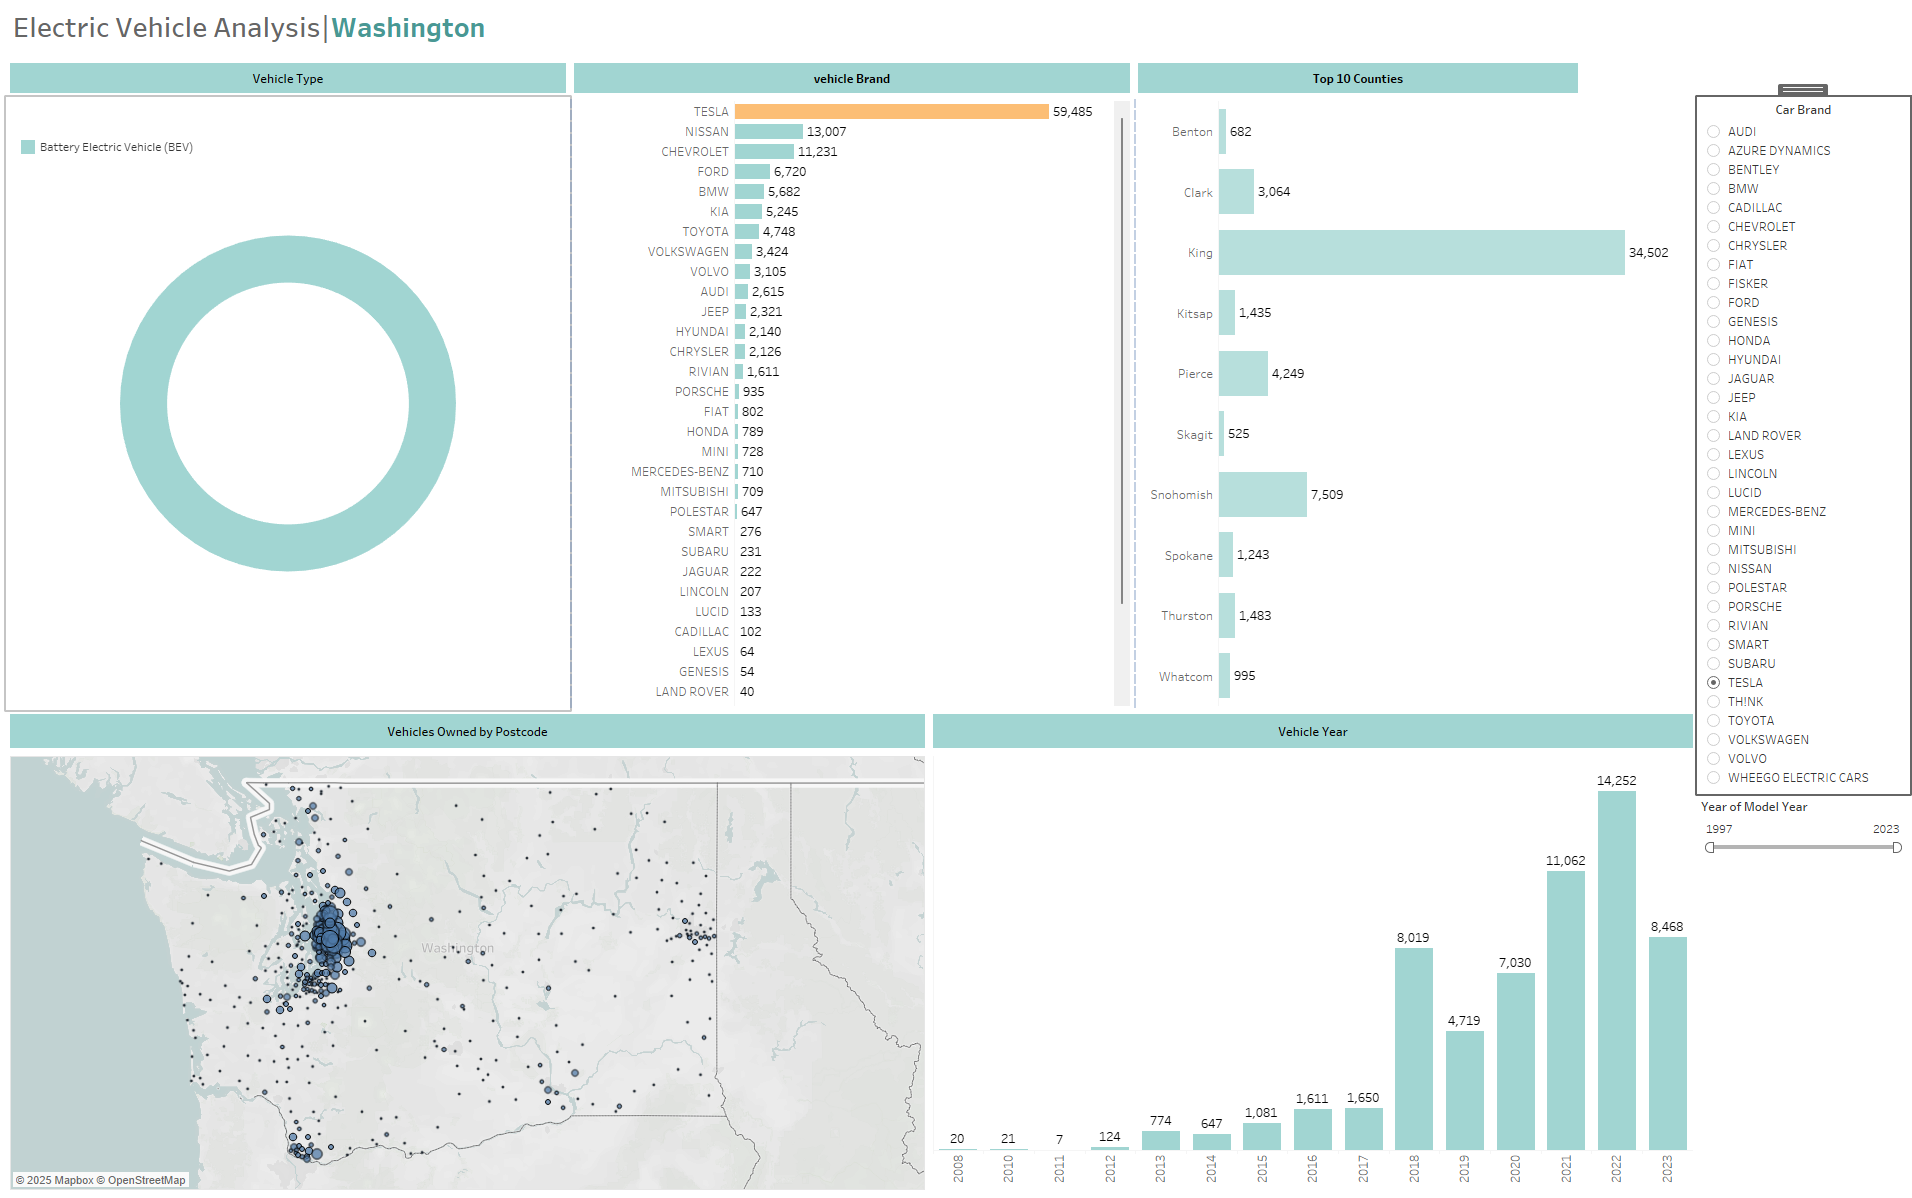

Layout of this report page (visuals, bound fields, positions):
{"tool":"tableau","page":{"name":"Dashboard 1","canvas":[1000,1000],"units":"permille","ordinal":0},"visuals":[{"type":"text","box":[4.2,6,991.7,54.3]},{"type":"text","box":[4.2,60.3,293.8,31.3]},{"type":"text","box":[297.9,60.3,293.8,31.3]},{"type":"text","box":[591.7,60.3,233.6,31.3]},{"type":"worksheet","title":"vehicle type donut","mark":"Pie","rows":["Calculation_1808195256372592642","Calculation_1808195256372592642"],"box":[4.2,91.2,293.8,504.5]},{"type":"worksheet","title":"make and model","mark":"Automatic","rows":["Make"],"cols":["DOL Vehicle ID"],"box":[297.9,91.2,293.8,504.5]},{"type":"worksheet","title":"Top ten countries column chart","mark":"Automatic","rows":["County"],"cols":["DOL Vehicle ID"],"box":[591.7,91.2,293.2,504.5]},{"type":"parameter","param":"[Parameters].[Parameter 1]","box":[884.9,91.5,110.9,730.2]},{"type":"legend","title":"vehicle type donut","param":"[federated.1yzxt031h0zl7c1ghce050qrviho].[none:Electric Vehicle Type:nk]","box":[10.4,124.9,121.4,51.8]},{"type":"text","box":[4.2,595.8,480.7,34.6]},{"type":"text","box":[484.8,595.8,400.1,34.6]},{"type":"worksheet","title":"map","mark":"Automatic","box":[4.2,630.4,480.7,363.6]},{"type":"worksheet","title":"year and type","mark":"Bar","rows":["DOL Vehicle ID"],"cols":["Model Year"],"box":[484.8,630.4,400.1,363.6]},{"type":"filter","title":"year and type","param":"[federated.1yzxt031h0zl7c1ghce050qrviho].[tyr:Model Year:qk]","box":[884.9,821.7,110.9,51.6]}]}

Visuals, with their boxes on the dashboard's canvas, which has no fixed pixel size, in thousandths of its width and height (x1, y1, x2, y2). These are canvas units, not pixel positions in the 1912x1198 screenshot, which may show the page scaled, cropped or inside an application window:
text: (x1=4, y1=6, x2=996, y2=60)
text: (x1=4, y1=60, x2=298, y2=92)
text: (x1=298, y1=60, x2=592, y2=92)
text: (x1=592, y1=60, x2=825, y2=92)
"vehicle type donut" worksheet (Pie marks): (x1=4, y1=91, x2=298, y2=596)
"make and model" worksheet: (x1=298, y1=91, x2=592, y2=596)
"Top ten countries column chart" worksheet: (x1=592, y1=91, x2=885, y2=596)
parameter: (x1=885, y1=92, x2=996, y2=822)
"vehicle type donut" legend: (x1=10, y1=125, x2=132, y2=177)
text: (x1=4, y1=596, x2=485, y2=630)
text: (x1=485, y1=596, x2=885, y2=630)
"map" worksheet: (x1=4, y1=630, x2=485, y2=994)
"year and type" worksheet (Bar marks): (x1=485, y1=630, x2=885, y2=994)
"year and type" filter: (x1=885, y1=822, x2=996, y2=873)
